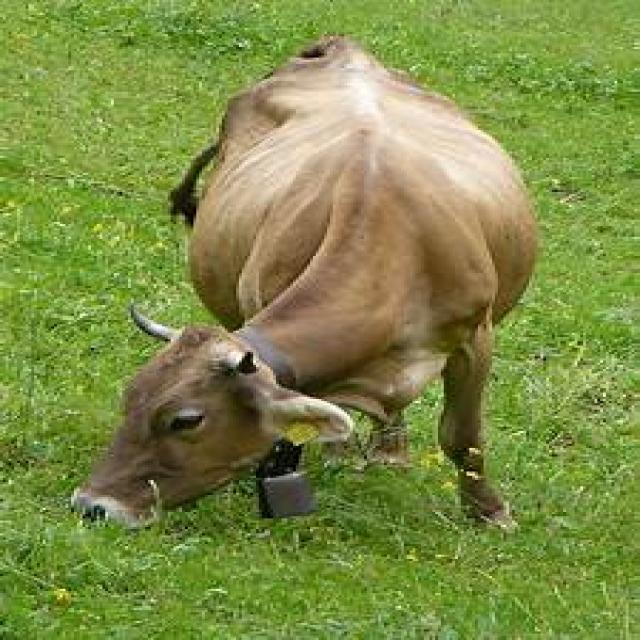cow: (72, 36, 535, 528)
